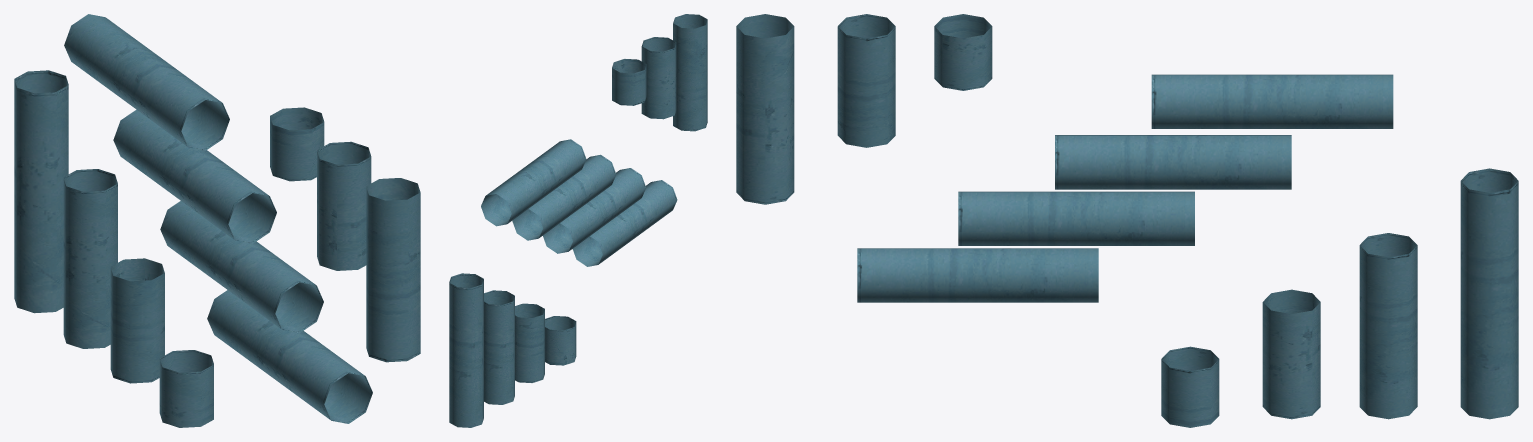
Rendered from nt_2020_pipes_group_blue_LOD0.obj.
3 renders of one model, left to right at view 1: azimuth 30°, elevation 25°; view 2: azimuth 150°, elevation 25°; view 3: azimuth 270°, elevation 25°, orthographic. The views are drawn at different scales.
Visible parts, largest first — view 1: mtl_nt_2020_pipes_modular_blue; view 2: mtl_nt_2020_pipes_modular_blue; view 3: mtl_nt_2020_pipes_modular_blue.
Boxes of the visible parts, box(x1,y1,x2,y2) form: mtl_nt_2020_pipes_modular_blue: box(14, 14, 420, 427); mtl_nt_2020_pipes_modular_blue: box(449, 14, 707, 427); mtl_nt_2020_pipes_modular_blue: box(736, 14, 1518, 427).
Size of the model in its own units: 15.24 by 113 by 206.
